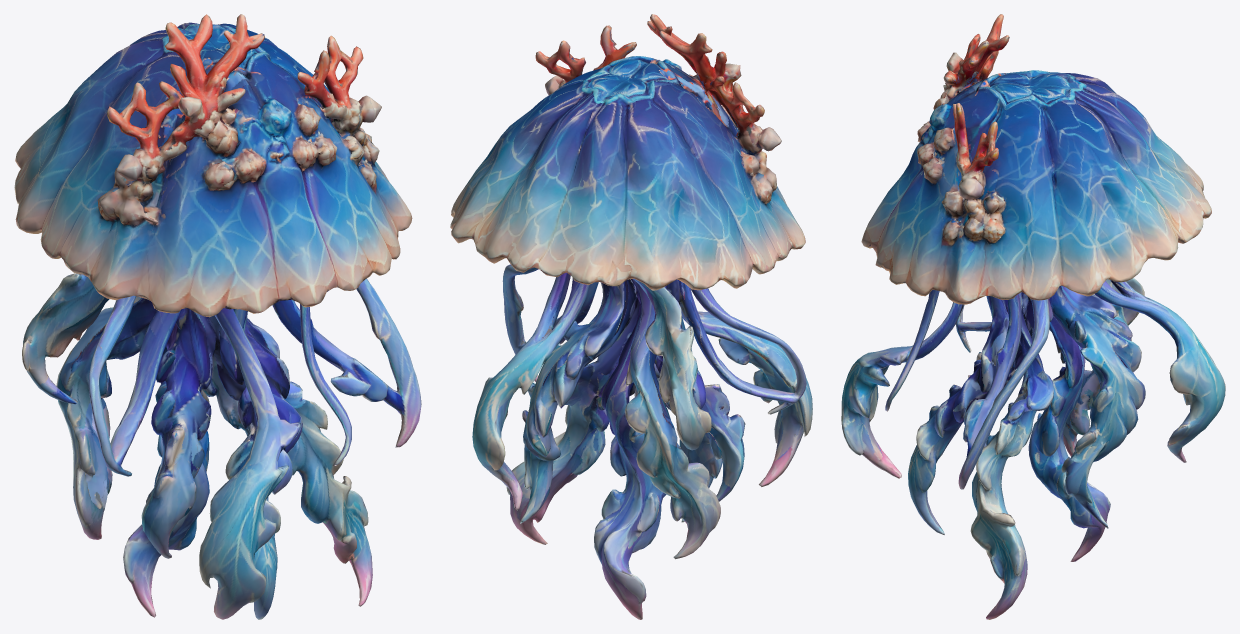
The picture shows the model from 3 angles, left to right: view 1: azimuth 30°, elevation 25°; view 2: azimuth 150°, elevation 25°; view 3: azimuth 270°, elevation 25°; orthographic projection. The views are drawn at different scales.
Visible parts, largest first — view 1: surface_7; view 2: surface_7; view 3: surface_7.
Part boxes in pixels (x1,y1,x2,y2): surface_7: [14, 14, 421, 619]; surface_7: [450, 14, 812, 619]; surface_7: [841, 14, 1225, 619].
Bounding box in the file's own units: 0.552 × 1 × 0.6491.
1 material, 1 textured.
